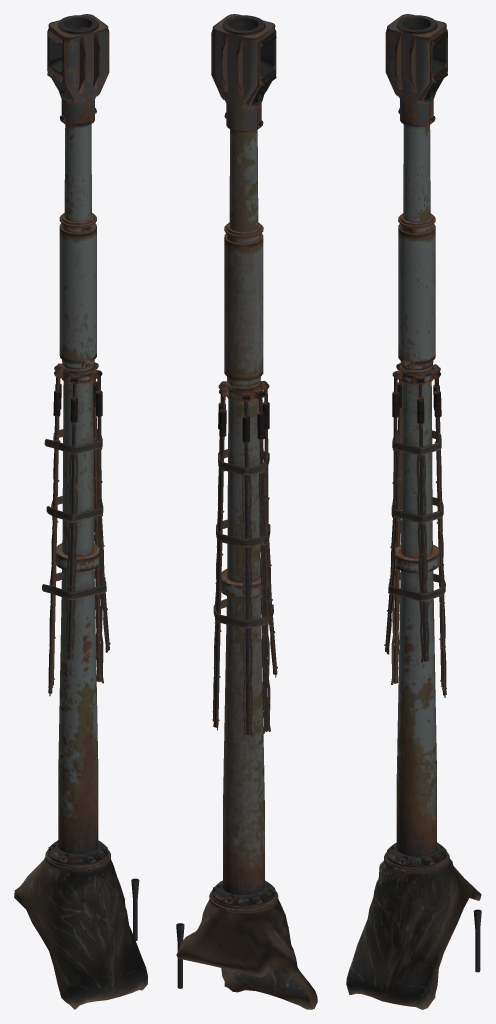
The model's file is Gun_06.glb.
3 views of the same model, side by side, from view 1: azimuth 30°, elevation 25°; view 2: azimuth 150°, elevation 25°; view 3: azimuth 330°, elevation 25° (orthographic). The views are drawn at different scales.
Visible parts, largest first — view 1: set_0_group_0; view 2: set_0_group_0; view 3: set_0_group_0.
Part boxes in pixels (<box>): set_0_group_0: <box>14,14,147,1009</box>; set_0_group_0: <box>176,14,317,1009</box>; set_0_group_0: <box>346,14,481,1009</box>.
Bounding box in the file's own units: 0.6514 × 5.67 × 0.6362.
Materials: 1 (1 with a texture image).
